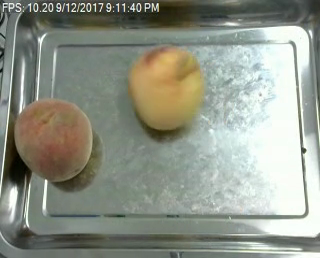Peach: (127, 43, 204, 132), (13, 96, 92, 182)
